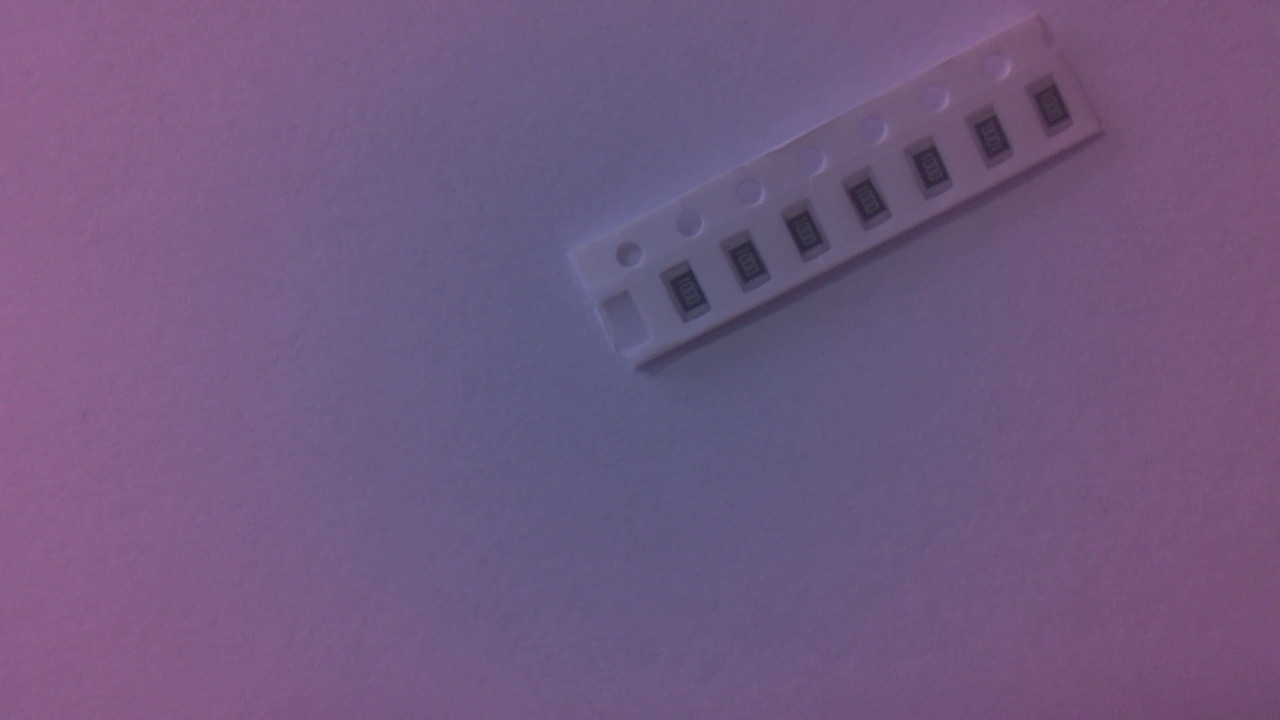Resistor: (908, 140, 964, 206), (970, 109, 1025, 176), (662, 262, 718, 327), (1027, 77, 1082, 140), (727, 235, 778, 300), (787, 205, 834, 272), (849, 172, 897, 236)
